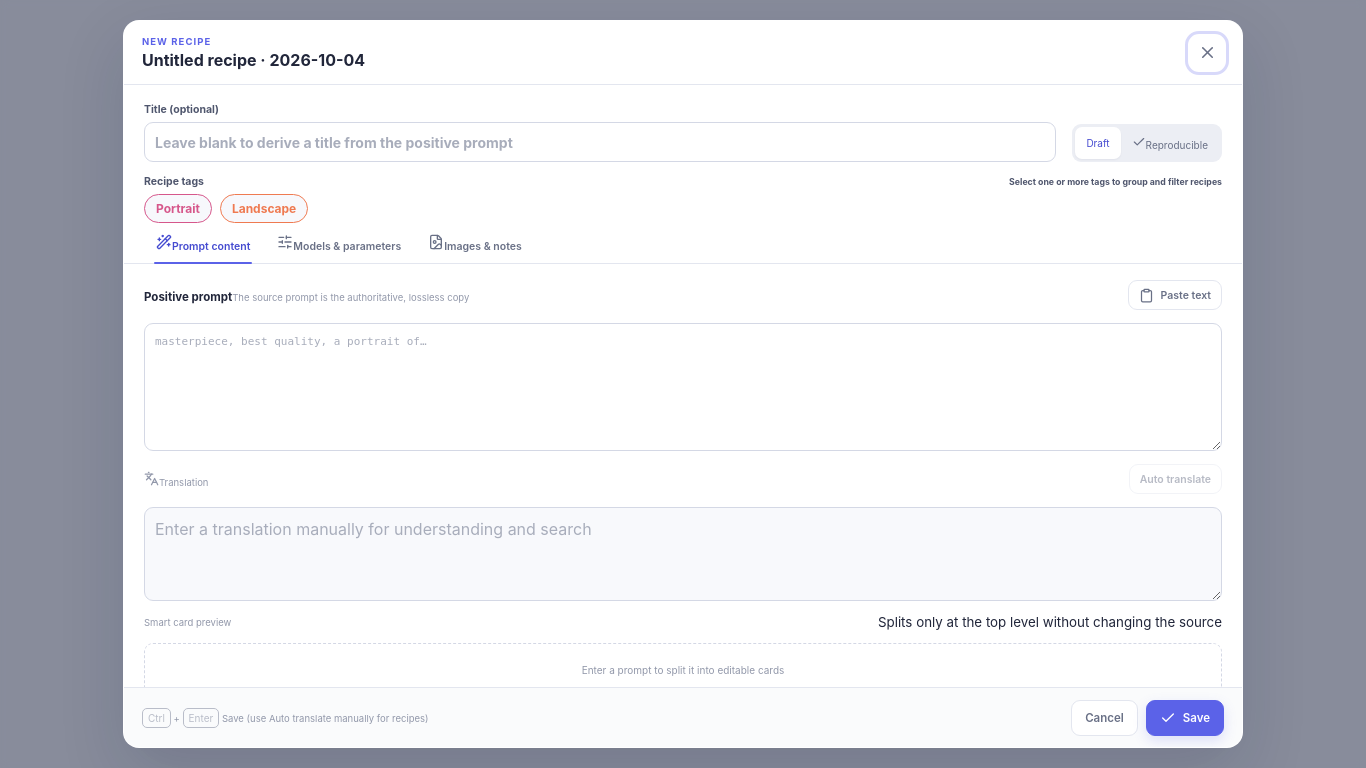
Test: RecipeEditor save and resource selection › searches models and LoRAs by metadata without collapsing the LoRA picker
The image size is (1366, 768).
Step 1. Click the button "Models & parameters" → [339, 243], box [265,223,413,263]
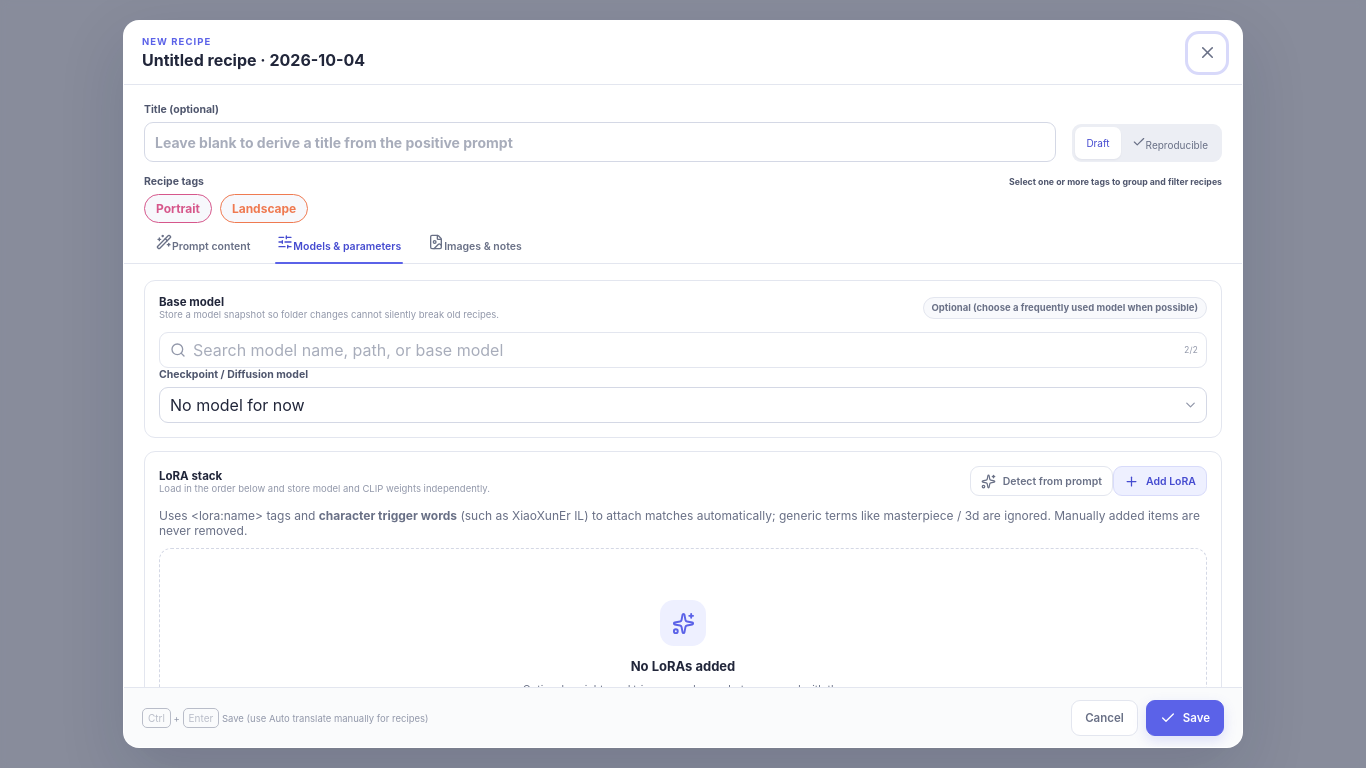
Step 2. Type "flux.1" into the field named "Search base models" → [685, 350], box [193,333,1177,367]
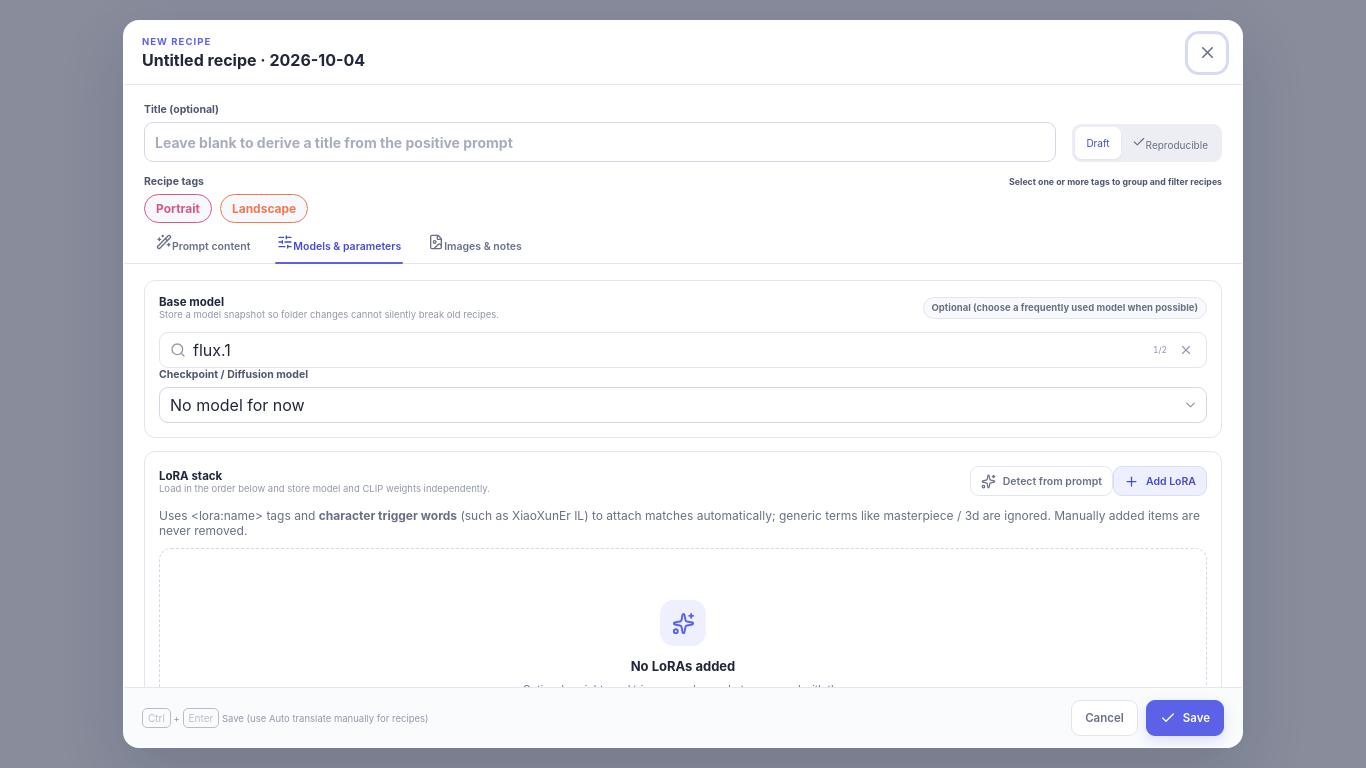
Step 3. Click the button "Add LoRA" → [1160, 481], box [1113,466,1207,496]
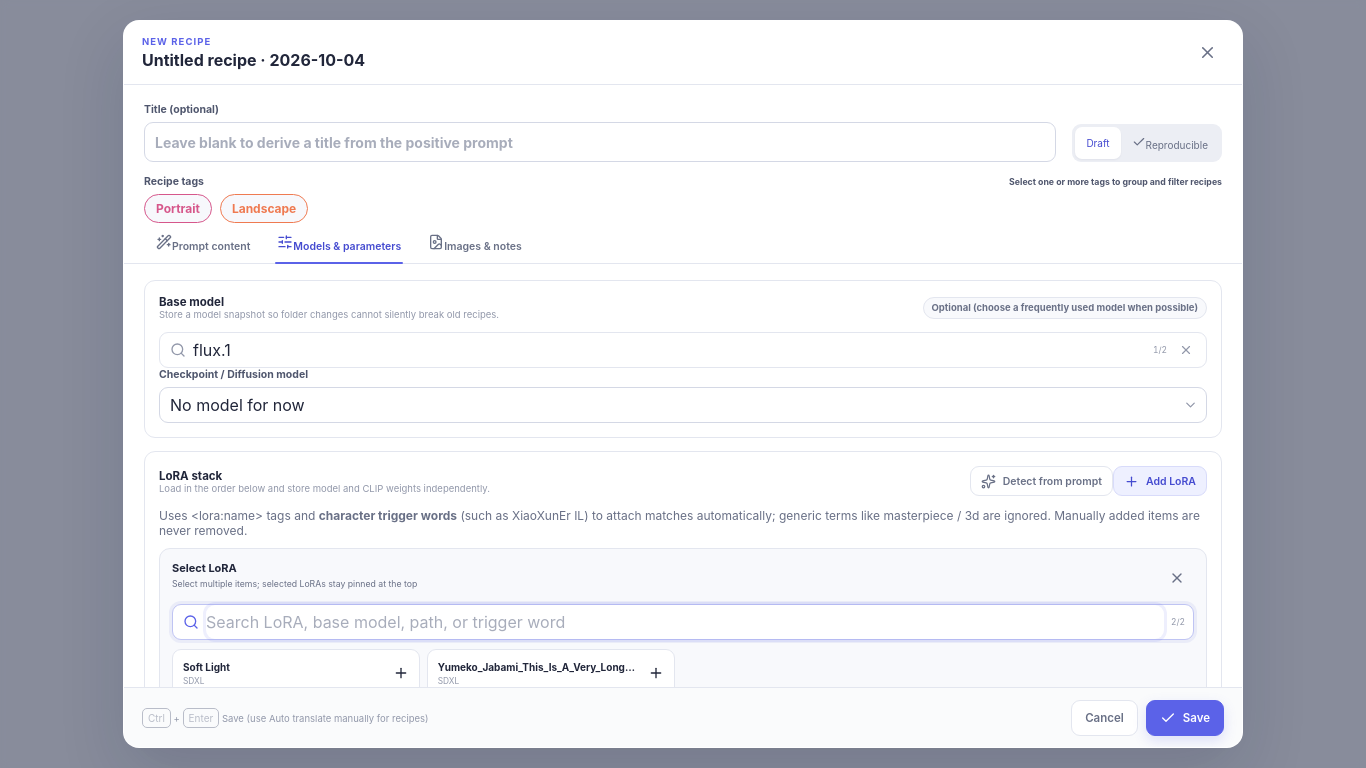
Result: the element with class "lora-picker" is shown at [159,548,1207,687]
Step 4. Type "V-SIGN" into the field named "Search LoRAs" → [685, 622], box [206,605,1164,639]
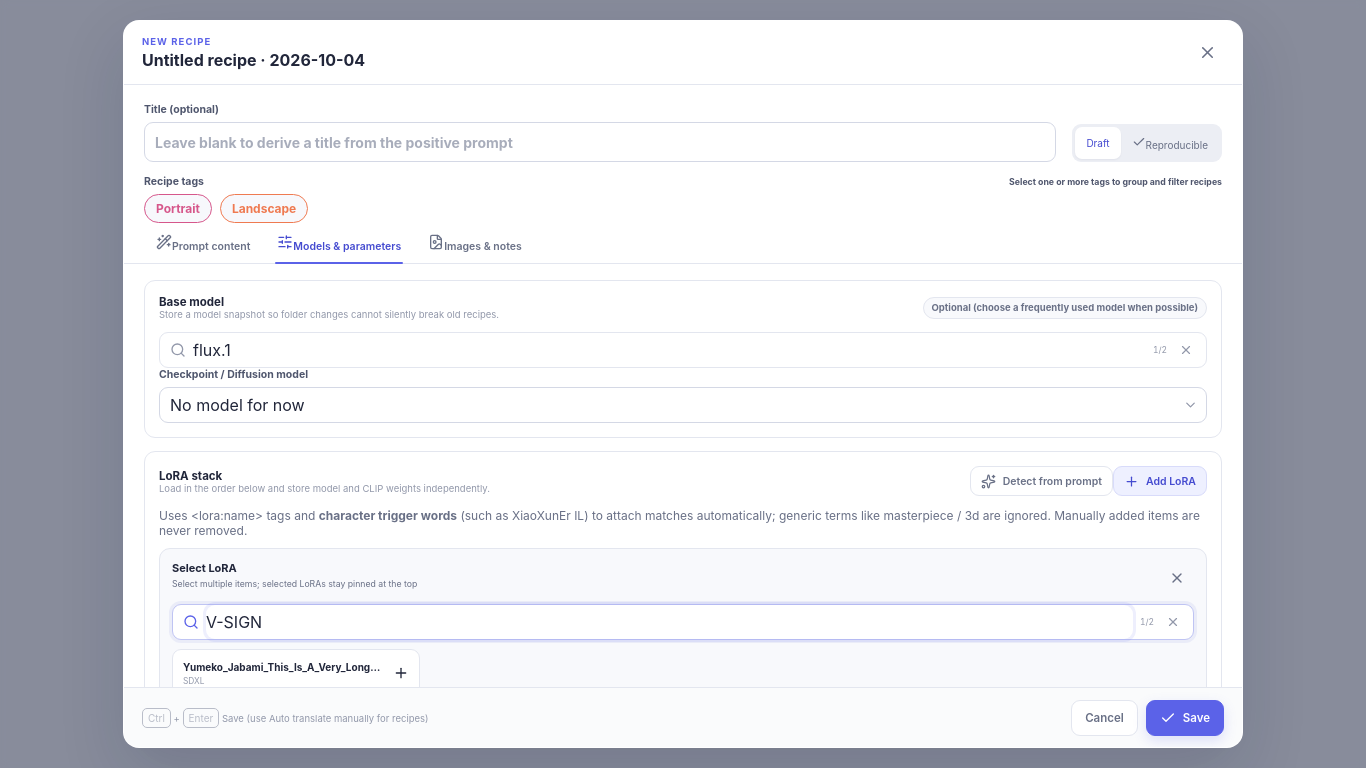
Result: the text "Yumeko_Jabami_This_Is_A_Very_Long_LoRA_Name" is shown at [183,660,383,672]
Result: the button "Soft Light" is gone
